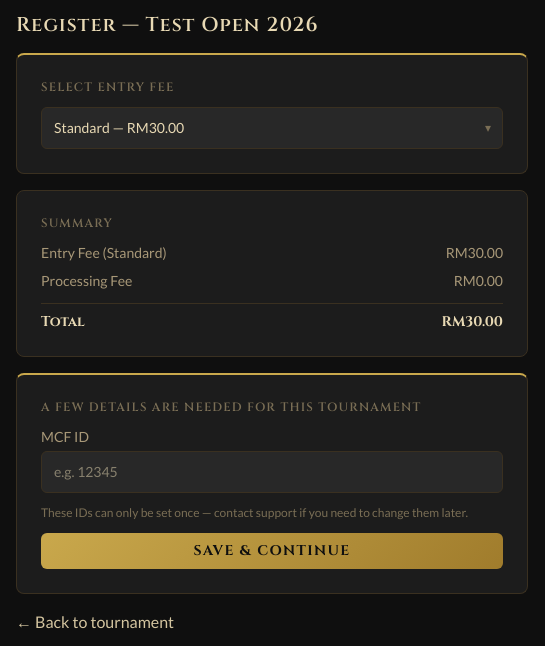
Scenario: RegisterForm › eligibility — rating › judges an MCF-rated tournament on the national rating
Select "Amateur — RM20.00 (Ineligible)" in the dropdown. click: (272,128)
box: [41, 107, 503, 149]
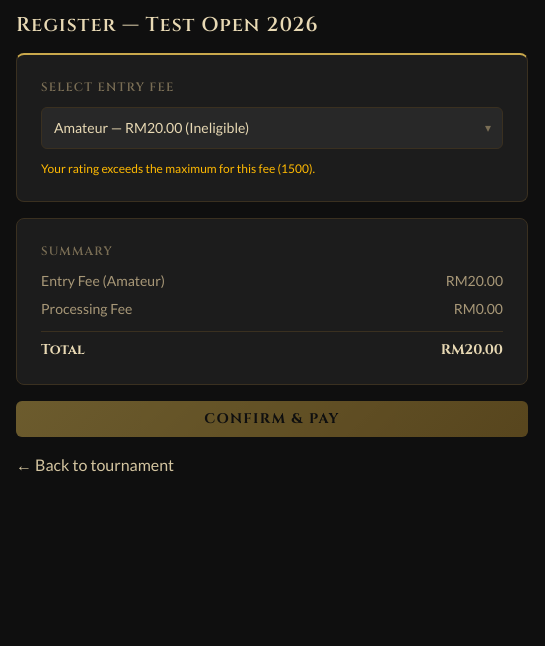
Expected: the text "Your rating exceeds the maximum for this fee (1500)." is shown, [41, 161, 315, 176]
